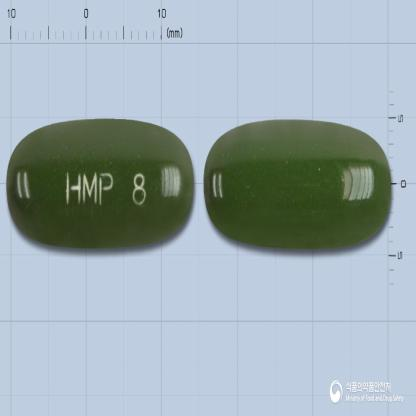pill: (204, 119, 392, 252), (5, 116, 195, 247)
